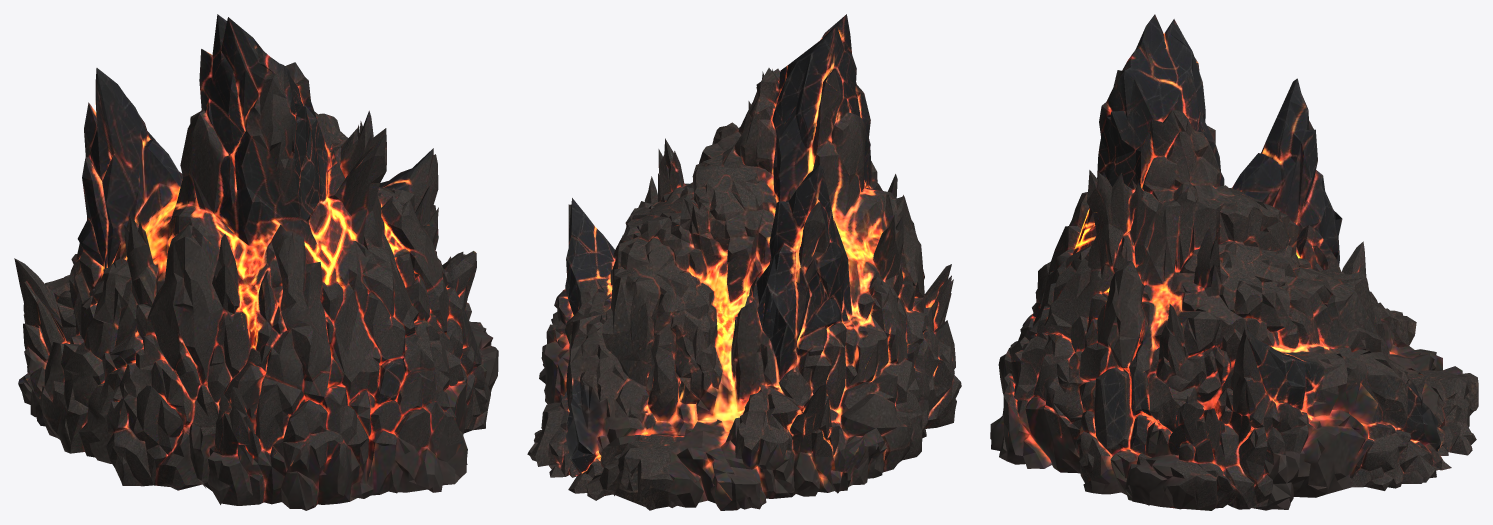
File: rock_big.glb
3 renders of one model, left to right at view 1: azimuth 30°, elevation 25°; view 2: azimuth 150°, elevation 25°; view 3: azimuth 270°, elevation 25°, orthographic. The views are drawn at different scales.
Bounding box in the file's own units: 1.59 × 1.64 × 1.89.
Materials: 1 (1 with a texture image).
